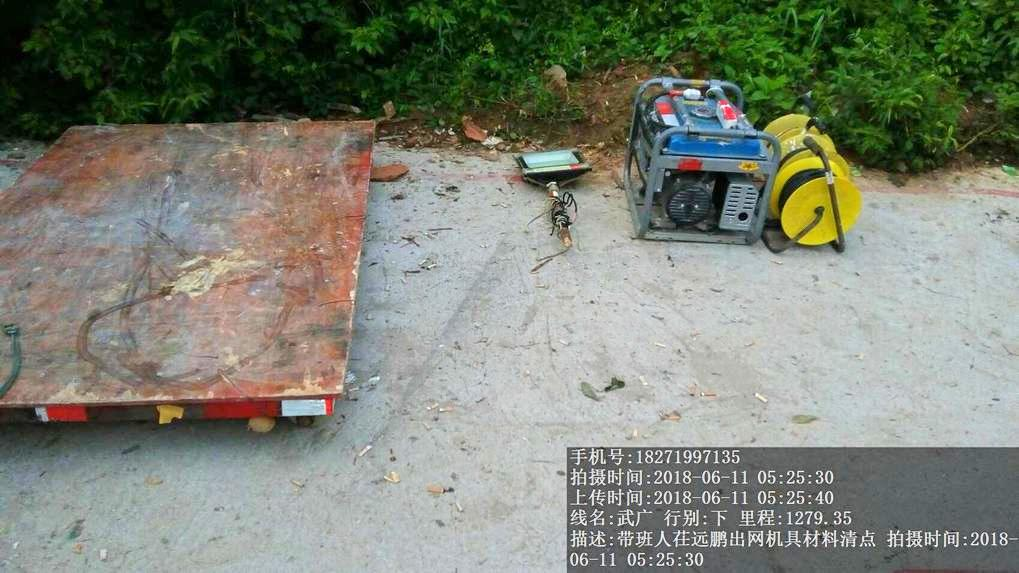DJ: (623, 80, 774, 256)
DX: (779, 157, 859, 253), (770, 110, 847, 159)
